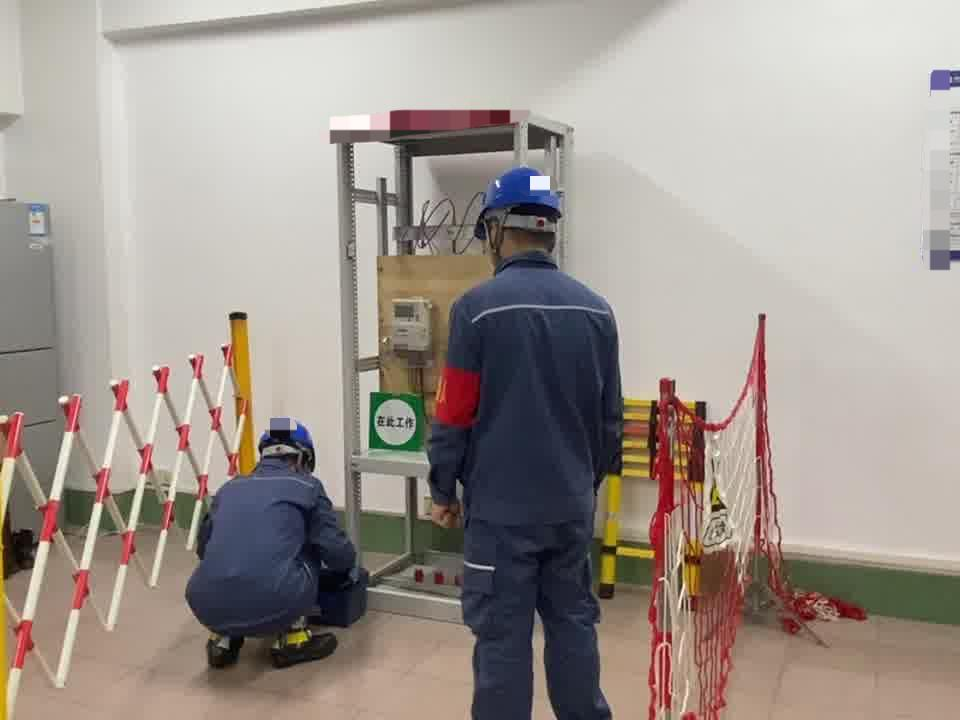halt: (479, 170, 568, 264), (260, 423, 320, 473)
inear: (482, 217, 512, 262)
